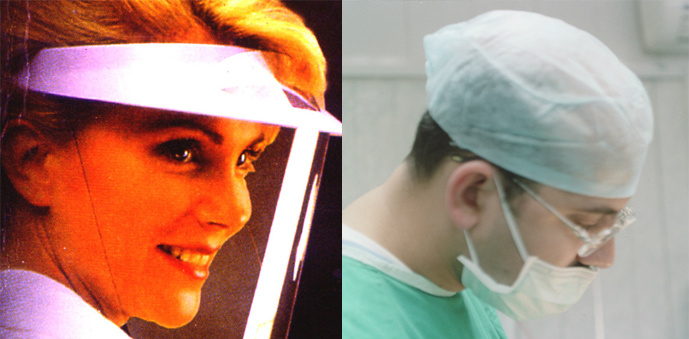mask_weared_incorrect: (494, 180, 640, 320)
without_mask: (106, 116, 274, 329)
